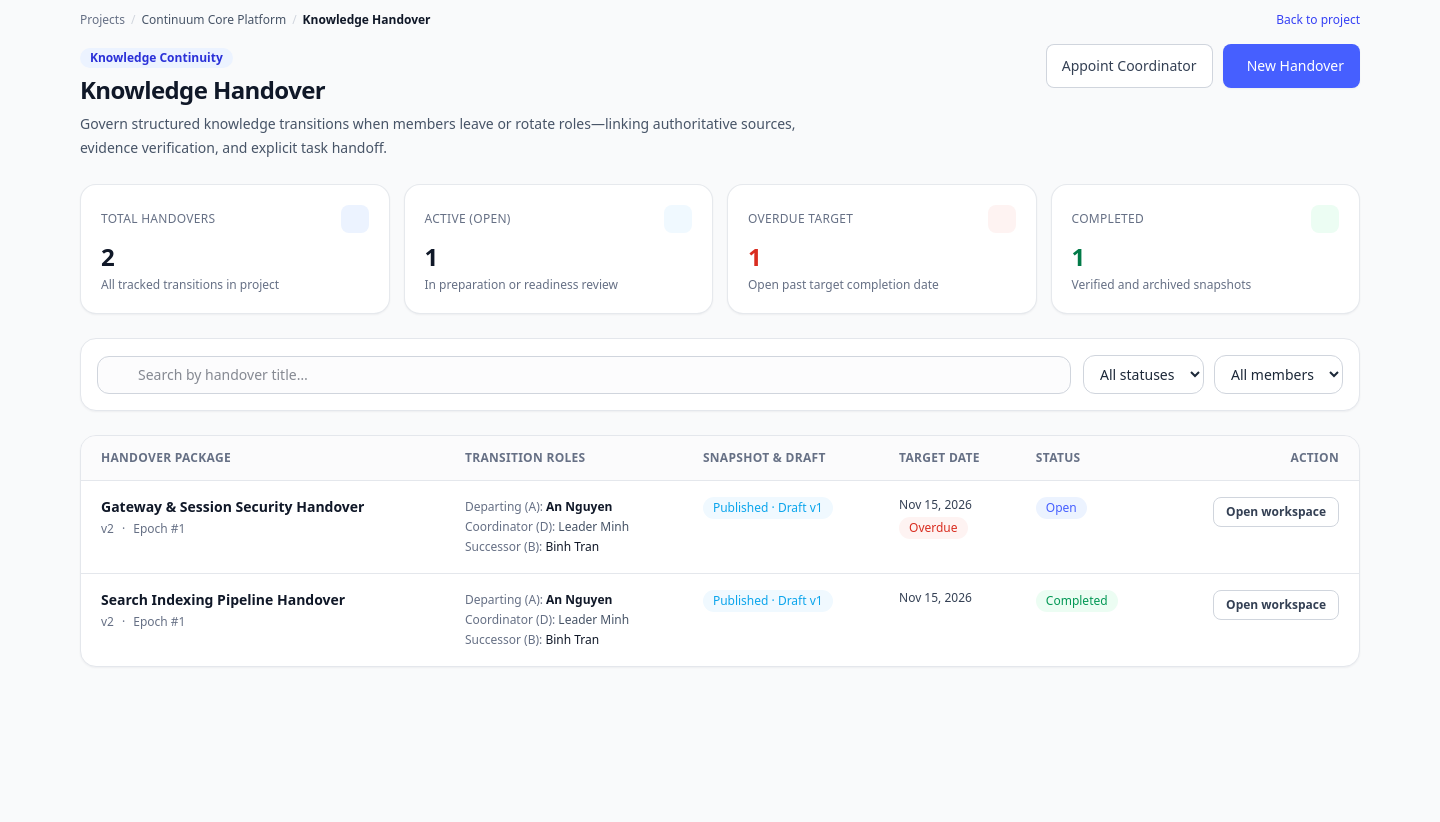
Test: HandoverListWorkspace › renders KPI strip with tabular-nums and filters handover rows by search and status
The width and height of the screenshot is (1440, 822).
Expected: the link "Gateway & Session Security Handover" is shown, [101,497,364,516]
Expected: the link "Search Indexing Pipeline Handover" is shown, [101,590,345,609]
Type "Search Indexing" into the search field at (584, 374), box [97,356,1071,394]
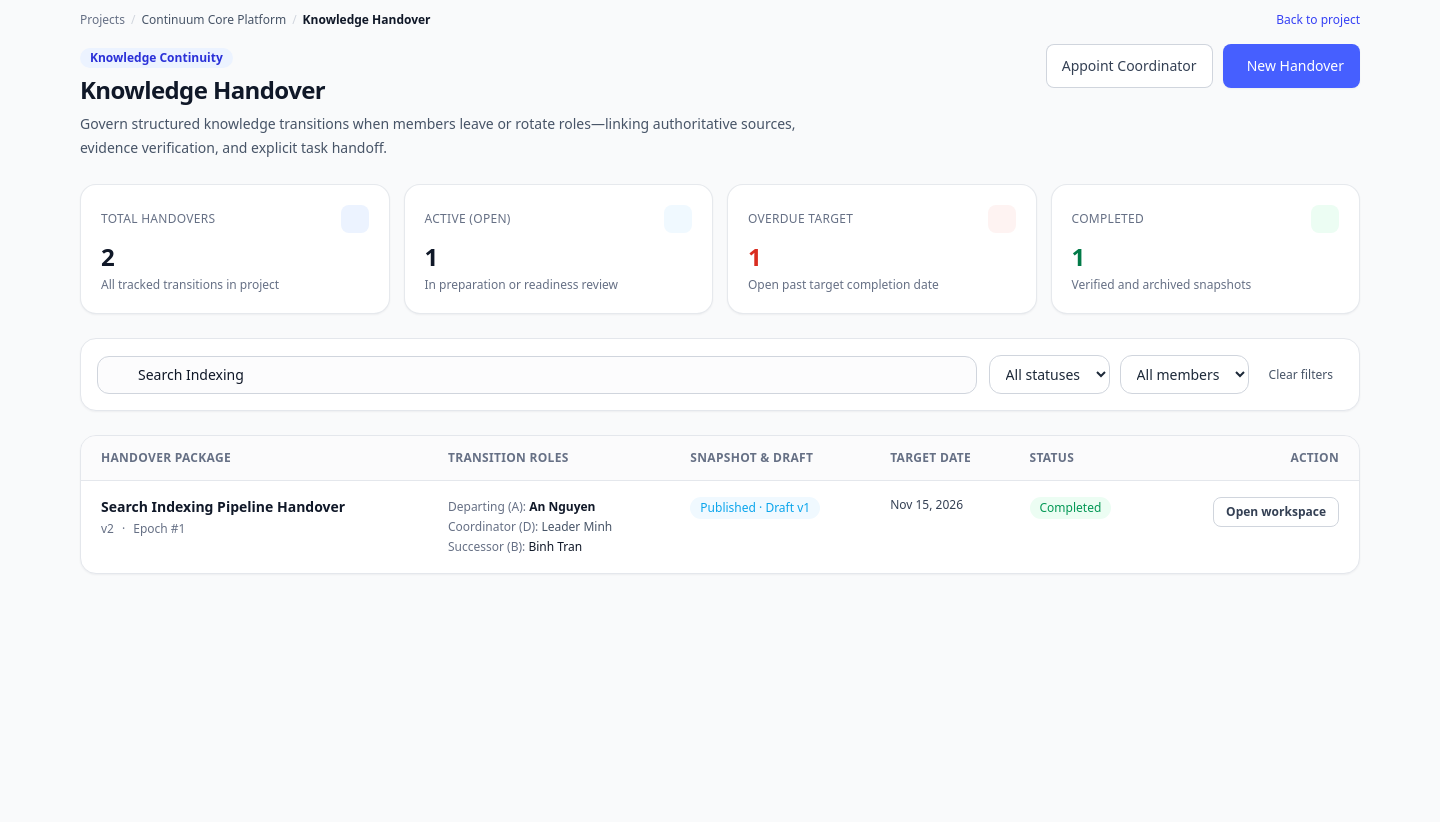
Expected: the link "Search Indexing Pipeline Handover" is shown, [101,497,345,516]
Expected: the link "Gateway & Session Security Handover" is gone
